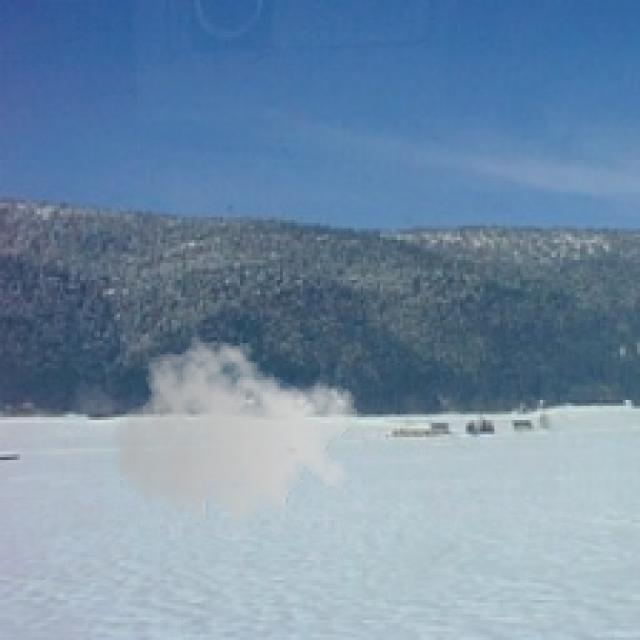Smoke: (111, 328, 360, 546)
